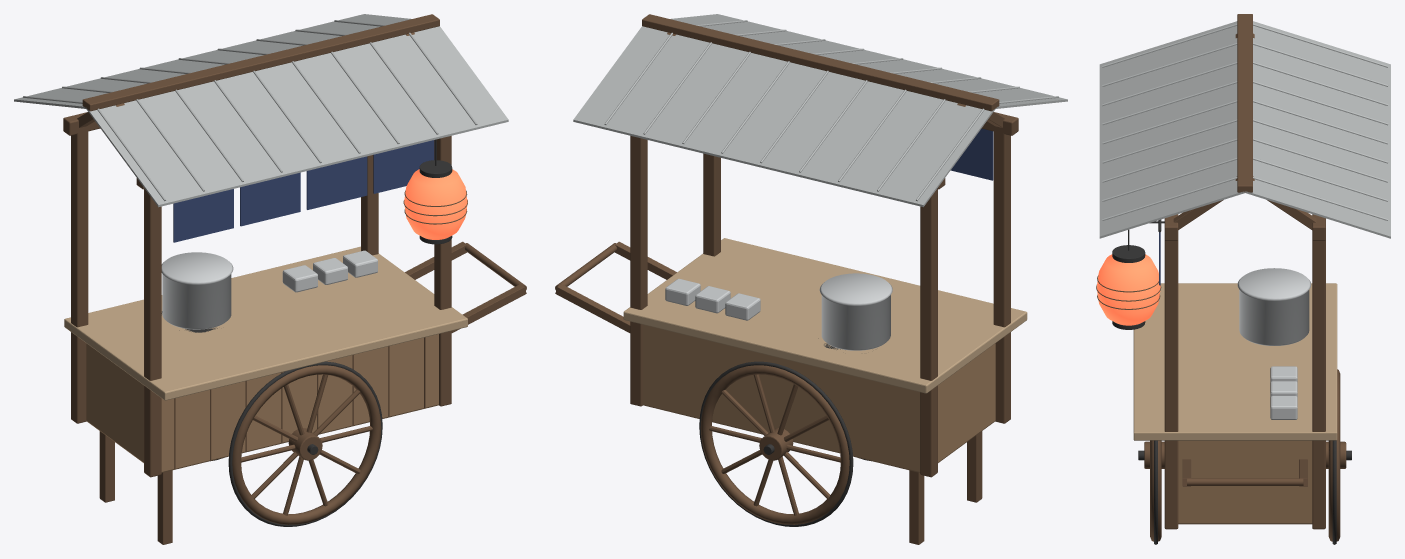
File: city-pushcart-food-stall.glb
3 renders of one model, left to right at view 1: azimuth 30°, elevation 25°; view 2: azimuth 150°, elevation 25°; view 3: azimuth 270°, elevation 25°, orthographic.
Visible parts, largest first — view 1: Assembly | Galvanized corrugated roof, Assembly | Dark stained timber, Assembly | Scrubbed counter board, Assembly | Weathered cedar boards, Assembly | Plain indigo cotton curtain, Assembly | Aluminium stock pot, Assembly | Red paper lantern, Assembly | Black iron fittings; view 2: Assembly | Galvanized corrugated roof, Assembly | Dark stained timber, Assembly | Scrubbed counter board, Assembly | Weathered cedar boards, Assembly | Aluminium stock pot, Assembly | Black iron fittings, Assembly | Plain indigo cotton curtain; view 3: Assembly | Galvanized corrugated roof, Assembly | Scrubbed counter board, Assembly | Dark stained timber, Assembly | Weathered cedar boards, Assembly | Aluminium stock pot, Assembly | Red paper lantern, Assembly | Black iron fittings.
Boxes of the visible parts, x1,y1,x2,y2 form: Assembly | Galvanized corrugated roof: [14, 14, 508, 207]; Assembly | Dark stained timber: [63, 14, 526, 544]; Assembly | Scrubbed counter board: [64, 246, 467, 400]; Assembly | Weathered cedar boards: [86, 334, 438, 472]; Assembly | Plain indigo cotton curtain: [173, 140, 434, 242]; Assembly | Aluminium stock pot: [161, 250, 377, 329]; Assembly | Red paper lantern: [404, 169, 467, 239]; Assembly | Black iron fittings: [161, 139, 452, 526]; Assembly | Galvanized corrugated roof: [573, 14, 1067, 207]; Assembly | Dark stained timber: [555, 14, 1018, 544]; Assembly | Scrubbed counter board: [623, 238, 1027, 393]; Assembly | Weathered cedar boards: [643, 324, 995, 472]; Assembly | Aluminium stock pot: [665, 273, 892, 350]; Assembly | Black iron fittings: [699, 338, 871, 526]; Assembly | Plain indigo cotton curtain: [951, 128, 993, 180]; Assembly | Galvanized corrugated roof: [1099, 21, 1390, 238]; Assembly | Scrubbed counter board: [1133, 283, 1337, 440]; Assembly | Dark stained timber: [1096, 14, 1346, 541]; Assembly | Weathered cedar boards: [1178, 440, 1312, 524]; Assembly | Aluminium stock pot: [1237, 268, 1311, 419]; Assembly | Red paper lantern: [1097, 254, 1160, 325]; Assembly | Black iron fittings: [1112, 219, 1351, 544].
Size of the model in its own units: 2.47 by 2.48 by 1.52.
